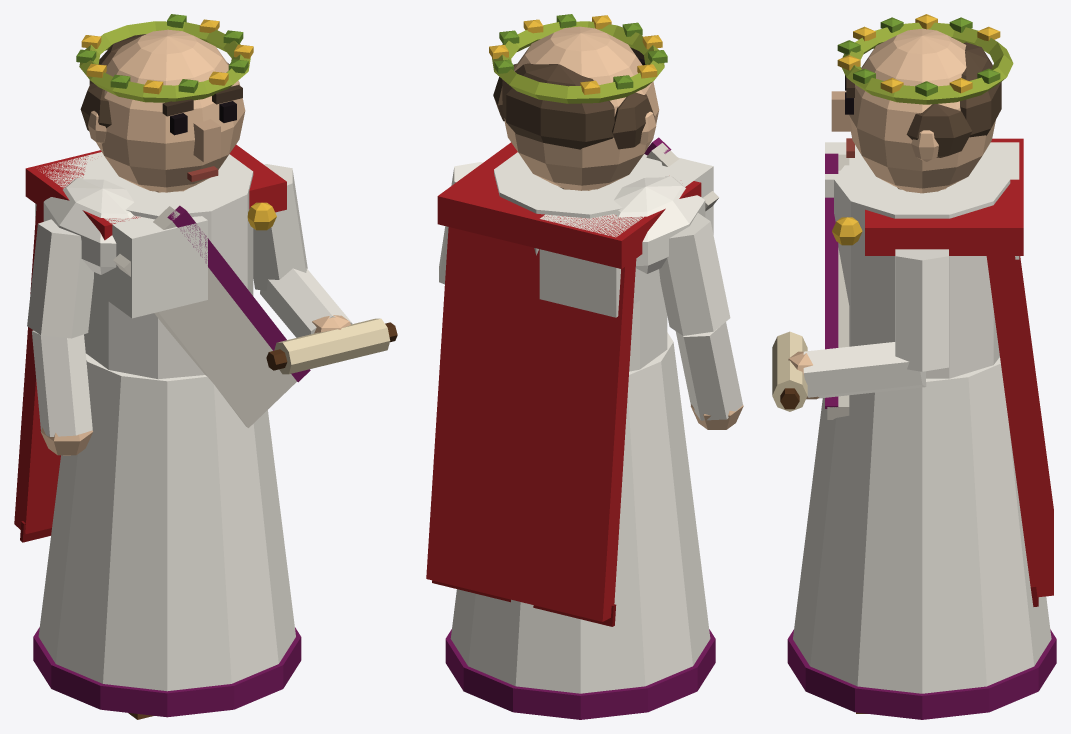
The model's file is cezar.glb.
3 renders of one model, left to right at view 1: azimuth 30°, elevation 25°; view 2: azimuth 150°, elevation 25°; view 3: azimuth 270°, elevation 25°, orthographic.
Parts seen in each view (by area): view 1: cialo, glowa, reka_l, reka_p, peleryna; view 2: cialo, peleryna, glowa, reka_l, reka_p; view 3: cialo, glowa, reka_p, peleryna.
Part boxes in pixels (bbox=[...]): cialo: bbox=[25, 144, 310, 717]; glowa: bbox=[76, 14, 253, 192]; reka_l: bbox=[27, 219, 93, 455]; reka_p: bbox=[253, 164, 397, 374]; peleryna: bbox=[14, 205, 60, 542]; cialo: bbox=[437, 137, 719, 719]; peleryna: bbox=[426, 227, 636, 626]; glowa: bbox=[489, 14, 667, 190]; reka_l: bbox=[659, 213, 743, 429]; reka_p: bbox=[439, 162, 482, 284]; cialo: bbox=[787, 138, 1056, 719]; glowa: bbox=[831, 14, 1013, 193]; reka_p: bbox=[772, 249, 948, 411]; peleryna: bbox=[986, 256, 1053, 606].
Bounding box in the file's own units: 0.786 × 1.62 × 0.645.
